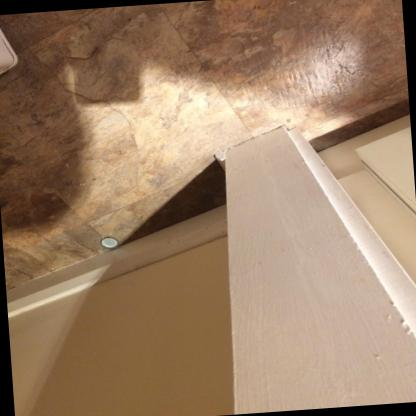Metal: (99, 236, 117, 248)
